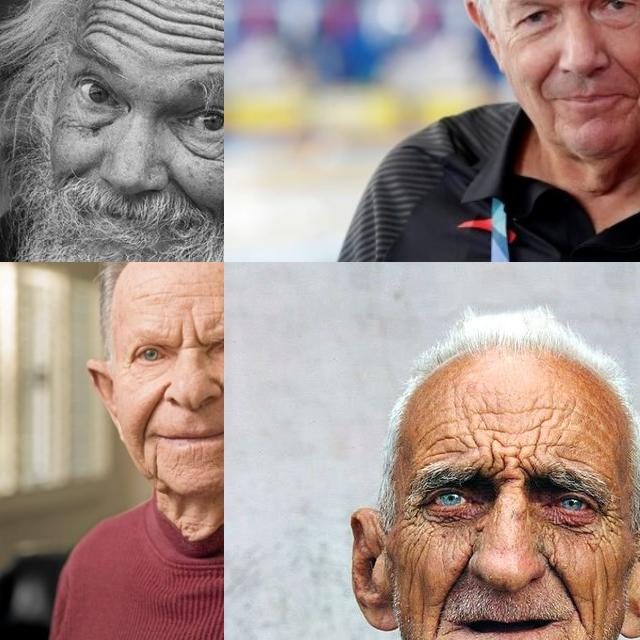bunny_line: (540, 528, 562, 562), (466, 528, 480, 552)
chin: (545, 110, 563, 132), (170, 450, 184, 470)
crows_feet: (404, 501, 426, 531), (602, 504, 620, 534), (499, 22, 518, 46), (122, 350, 136, 370)
forehead: (158, 4, 212, 64), (89, 0, 147, 43), (530, 397, 572, 449), (466, 408, 500, 444), (421, 424, 459, 456), (130, 286, 164, 306)
frown_line: (487, 454, 531, 478), (190, 321, 208, 352), (176, 322, 187, 352)
gummy_smile: (436, 559, 462, 619), (550, 567, 584, 607), (171, 172, 201, 206), (142, 390, 164, 432), (532, 64, 558, 96), (616, 57, 640, 88), (137, 436, 149, 464)
masseter: (404, 546, 422, 608), (49, 110, 83, 130), (588, 599, 601, 640)
sad_smile: (146, 446, 166, 479), (626, 92, 640, 122)
